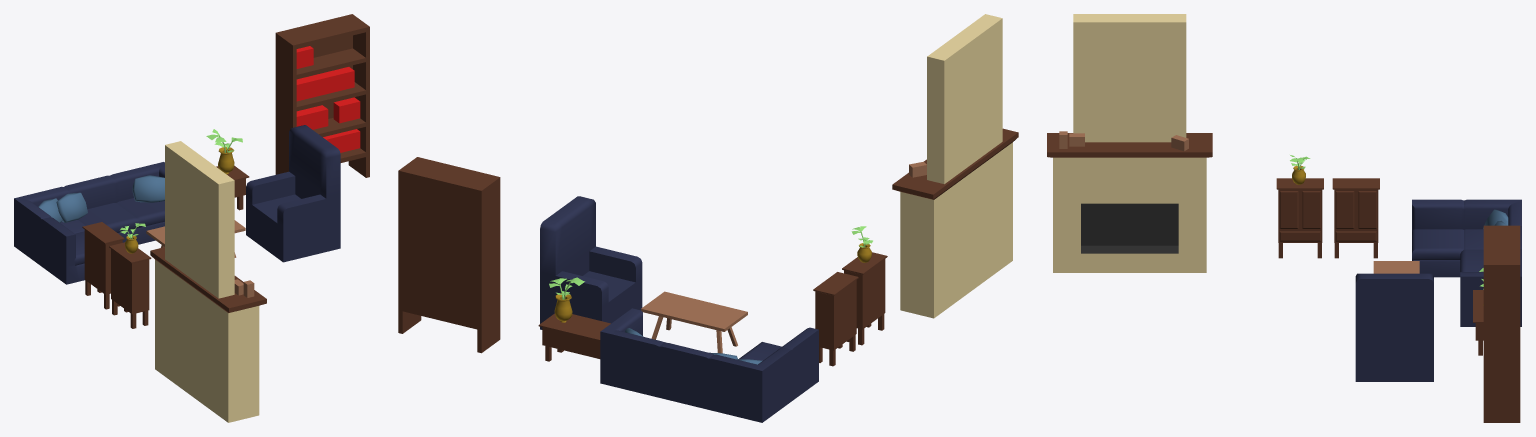
The model's file is mesh_USAHouseFurniture.fbx.
3 views of the same model, side by side, from view 1: azimuth 30°, elevation 25°; view 2: azimuth 150°, elevation 25°; view 3: azimuth 270°, elevation 25° (orthographic). The views are drawn at different scales.
Parts seen in each view (by area): view 1: Furniture; view 2: Furniture; view 3: Furniture.
Part boxes in pixels (<box>): Furniture: <box>14,14,369,422</box>; Furniture: <box>398,14,1018,422</box>; Furniture: <box>1047,14,1521,422</box>.
Bounding box in the file's own units: 445 × 282 × 500.
